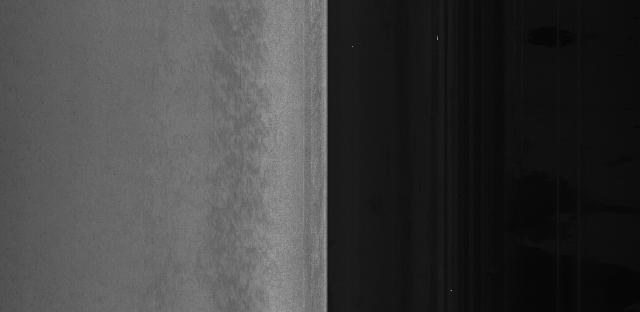silk_spot: (212, 118, 276, 210)
